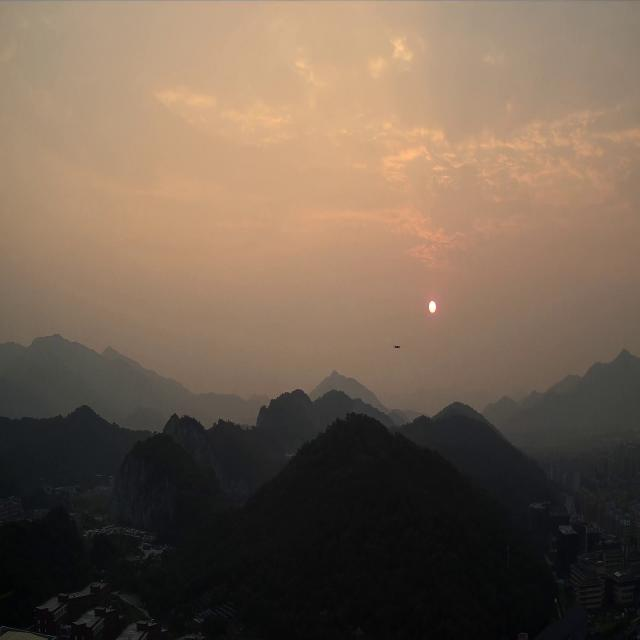UAV: (393, 344, 401, 348)
